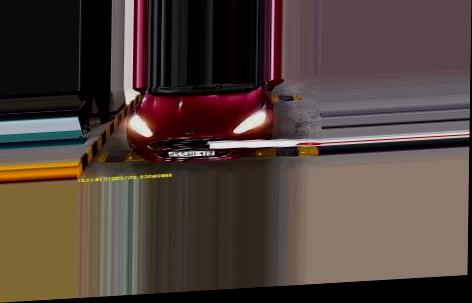License_Plate: (165, 148, 220, 161)
